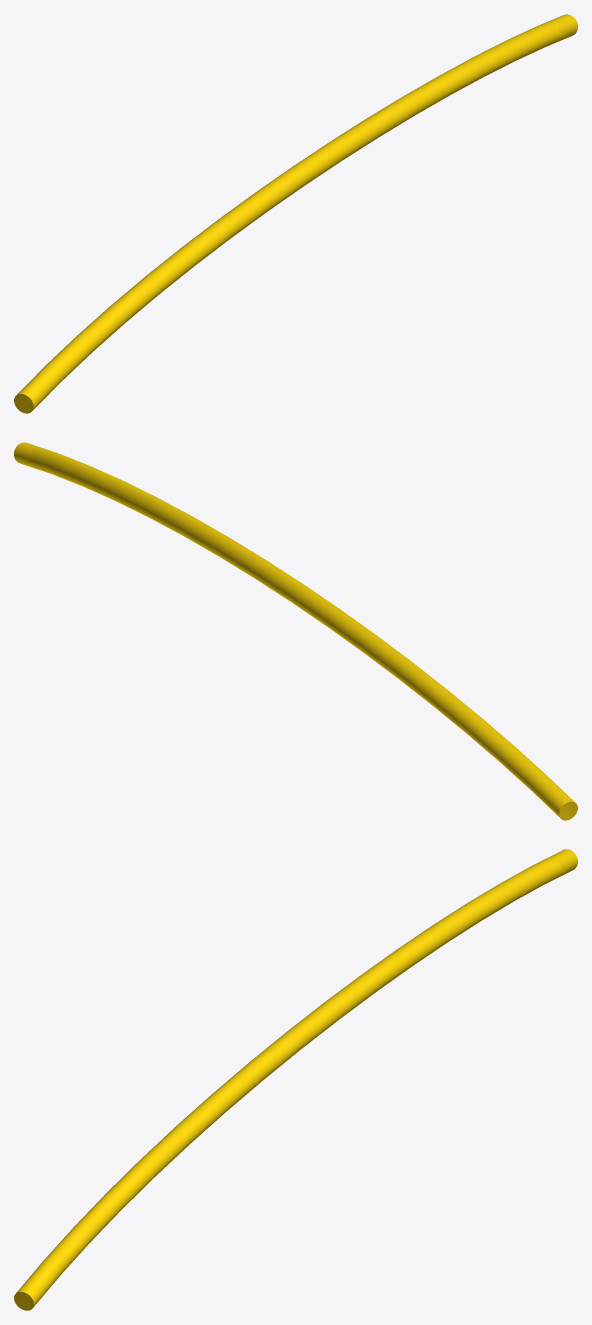
The model's file is Event_421115418_track_71.fbx.
3 renders of one model, top to bottom at view 1: azimuth 90°, elevation 25°; view 2: azimuth 150°, elevation 25°; view 3: azimuth 270°, elevation 25°, orthographic. The views are drawn at different scales.
Parts seen in each view (by area): view 1: Model; view 2: Model; view 3: Model.
Boxes of the visible parts, <box> form: Model: <box>14,14,577,413</box>; Model: <box>14,442,577,820</box>; Model: <box>14,849,577,1310</box>.
Bounding box in the file's own units: 1.73 × 0.1499 × 0.9948.
